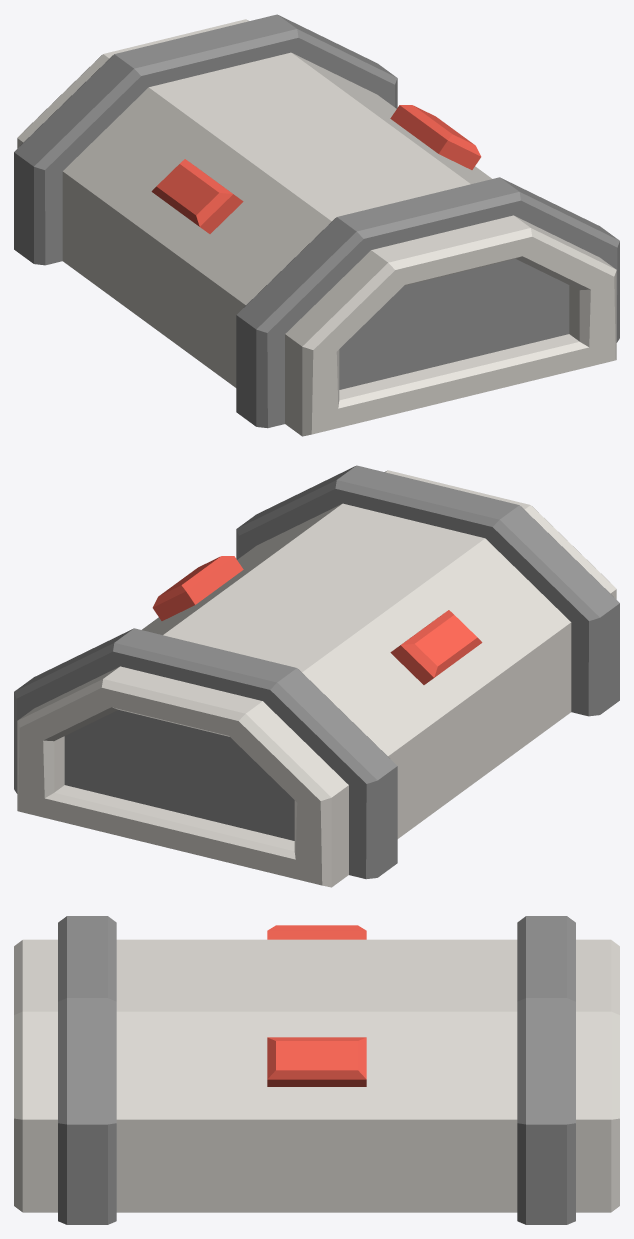
The model's file is 07 Power Supply.FBX.
The picture shows the model from 3 angles, top to bottom: view 1: azimuth 30°, elevation 25°; view 2: azimuth 150°, elevation 25°; view 3: azimuth 270°, elevation 25°; orthographic projection. The views are drawn at different scales.
Visible parts, largest first — view 1: Box152; view 2: Box152; view 3: Box152.
Part boxes in pixels (x1=…): Box152: x1=14, y1=14, x2=619, y2=436; Box152: x1=14, y1=465, x2=619, y2=887; Box152: x1=14, y1=916, x2=619, y2=1224.
Size of the model in its own units: 1480 by 665 by 2070.
